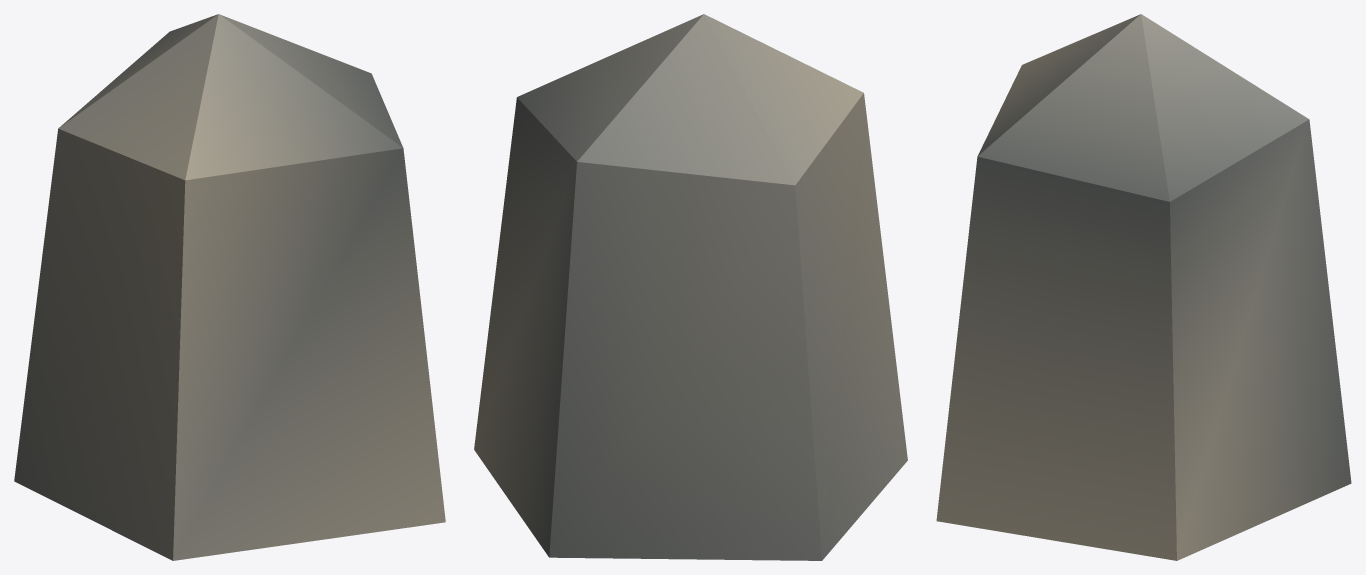
The model's file is ENV_Rock_Path_LOD1.glb.
3 renders of one model, left to right at view 1: azimuth 30°, elevation 25°; view 2: azimuth 150°, elevation 25°; view 3: azimuth 270°, elevation 25°, orthographic. The views are drawn at different scales.
Visible parts, largest first — view 1: ENV_Rock_Path_LOD1_rock; view 2: ENV_Rock_Path_LOD1_rock; view 3: ENV_Rock_Path_LOD1_rock.
Boxes of the visible parts, box(x1,y1,x2,y2) form: ENV_Rock_Path_LOD1_rock: box(14, 14, 445, 560); ENV_Rock_Path_LOD1_rock: box(474, 14, 907, 560); ENV_Rock_Path_LOD1_rock: box(936, 14, 1351, 560).
Bounding box in the file's own units: 0.8294 × 1 × 0.8374.
